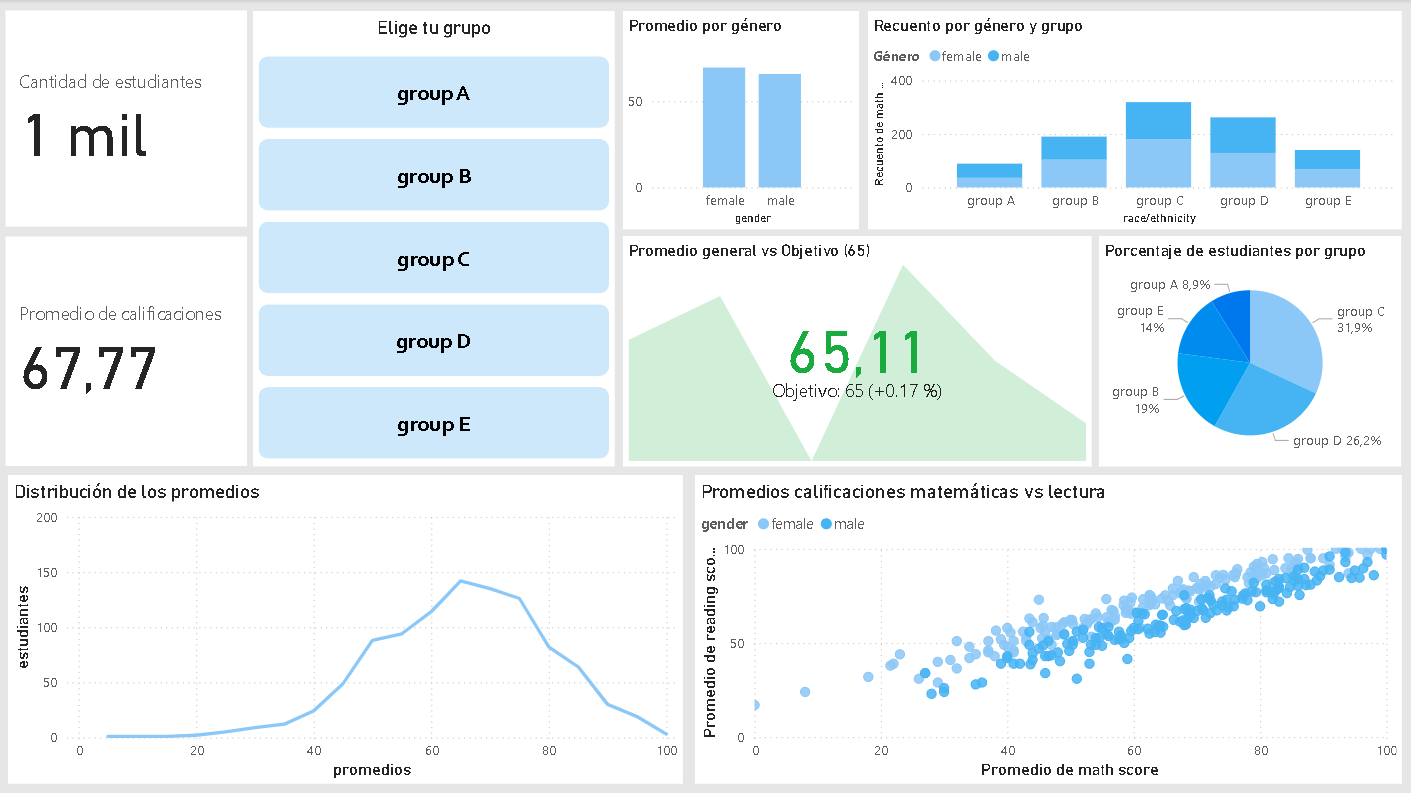

This screenshot's page, from the dashboard's own definition file:
{"tool":"powerbi","page":{"name":"Página 1","canvas":[1280,720],"ordinal":0},"visuals":[{"type":"columnChart","title":"Promedio por género","fields":{"Category":["students.gender"],"Y":["Avg(students.average_score)"]},"box":[565,11,214,198],"z":0},{"type":"columnChart","title":"Recuento por género y grupo","fields":{"Category":["students.race/ethnicity"],"Series":["students.gender"],"Y":["CountNonNull(students.math score)"]},"box":[787,11,484,198],"z":1000},{"type":"lineChart","title":"Distribución de los promedios","fields":{"Category":["students.average_score (ubicaciones)"],"Y":["CountNonNull(students.average_score (ubicaciones))"]},"box":[7,432,612,280],"z":2000},{"type":"cardVisual","fields":{"Data":["Avg(students.average_score)"]},"box":[0,210.7,229.3,218.7],"z":3000},{"type":"cardVisual","fields":{"Data":["CountNonNull(students.average_score)"]},"box":[0,5.3,229.3,206.7],"z":4000},{"type":"scatterChart","title":"Promedios calificaciones matemáticas vs lectura","fields":{"Y":["Avg(students.reading score)"],"X":["Avg(students.math score)"],"Category":["students.average_score"],"Series":["students.gender"]},"box":[630,432,641,280],"z":5000},{"type":"advancedSlicerVisual","title":"Elige tu grupo","fields":{"Values":["students.race/ethnicity"]},"box":[229,11,328,413],"z":6000},{"type":"pieChart","title":"Porcentaje de estudiantes por grupo","fields":{"Y":["CountNonNull(students.gender)"],"Category":["students.race/ethnicity"]},"box":[997,215,274,209],"z":7000},{"type":"kpi","title":"Promedio general vs Objetivo (65)","fields":{"Indicator":["select","students.Promedio General"],"Goal":["students.MetaObjetivo"],"TrendLine":["students.parental level of education"]},"box":[565,215,425,209],"z":8000}]}

Visuals, with their boxes in screenshot pixels (x1, y1, x2, y2), scaled from the page's 1280x720 canvas onto the 1411x793 screenshot:
"Promedio por género" columnChart: [left=623, top=12, right=859, bottom=230]
"Recuento por género y grupo" columnChart: [left=868, top=12, right=1401, bottom=230]
"Distribución de los promedios" lineChart: [left=8, top=476, right=682, bottom=784]
cardVisual - Avg(students.average_score): [left=0, top=232, right=253, bottom=473]
cardVisual - CountNonNull(students.average_score): [left=0, top=6, right=253, bottom=233]
"Promedios calificaciones matemáticas vs lectura" scatterChart: [left=694, top=476, right=1401, bottom=784]
"Elige tu grupo" advancedSlicerVisual: [left=252, top=12, right=614, bottom=467]
"Porcentaje de estudiantes por grupo" pieChart: [left=1099, top=237, right=1401, bottom=467]
"Promedio general vs Objetivo (65)" kpi: [left=623, top=237, right=1091, bottom=467]
